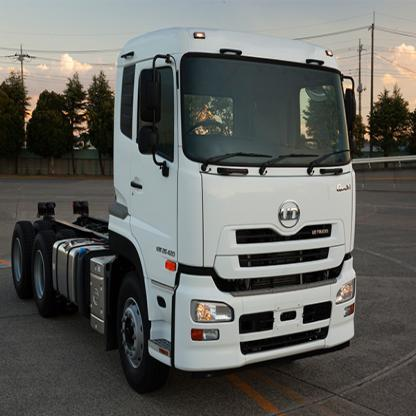dump_truck: (9, 27, 365, 381)
